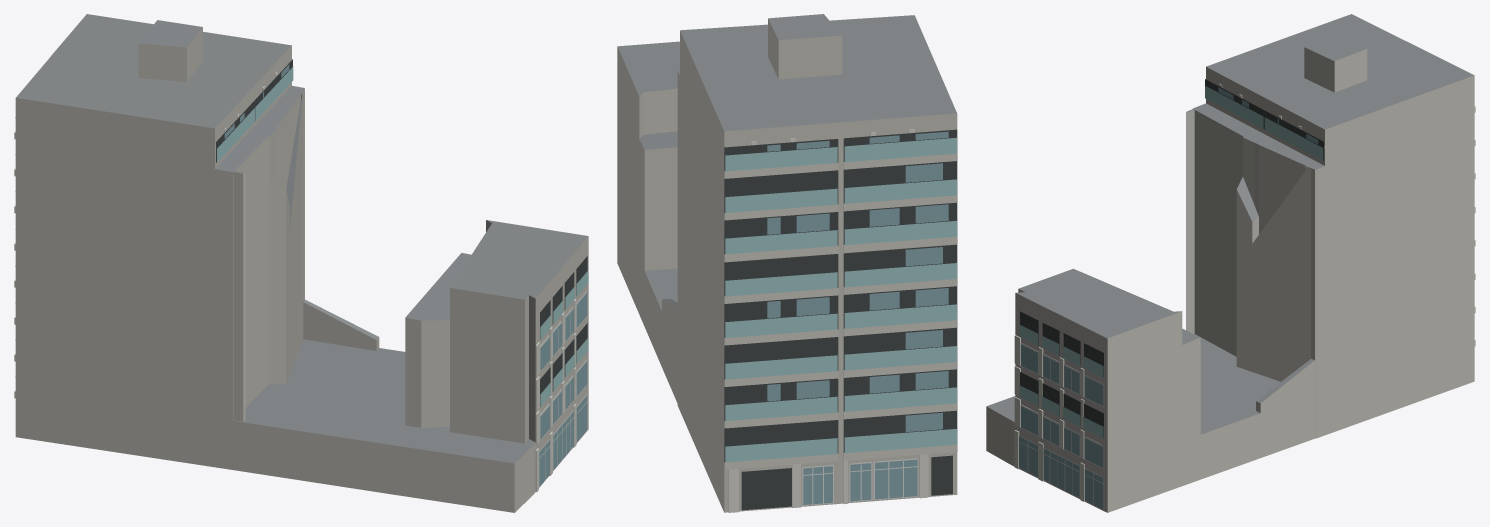
Rendered from haparandaweg-746-786.glb.
3 views of the same model, side by side, from view 1: azimuth 30°, elevation 25°; view 2: azimuth 150°, elevation 25°; view 3: azimuth 270°, elevation 25° (orthographic). The views are drawn at different scales.
Visible parts, largest first — view 1: haparandaweg-746-786; view 2: haparandaweg-746-786; view 3: haparandaweg-746-786.
Boxes of the visible parts, x1,y1,x2,y2 form: haparandaweg-746-786: (14,14,588,512); haparandaweg-746-786: (617,14,957,512); haparandaweg-746-786: (986,14,1475,512).
Bounding box in the file's own units: 38.87 × 31.7 × 41.62.
